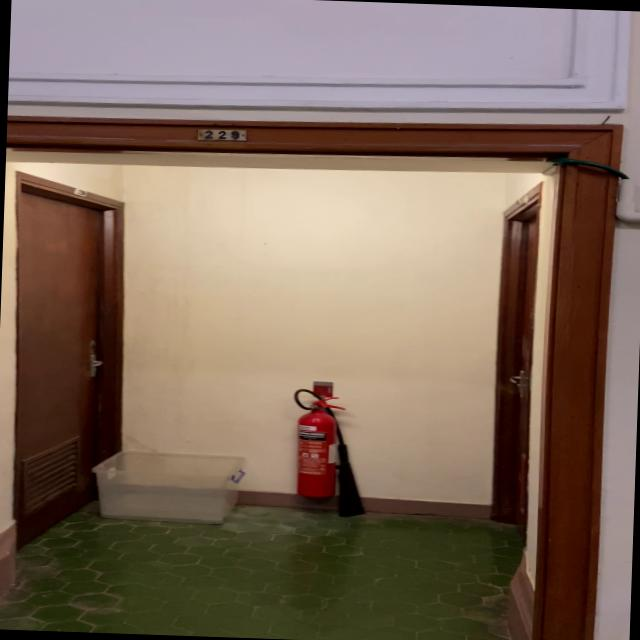room229: (193, 125, 250, 143)
